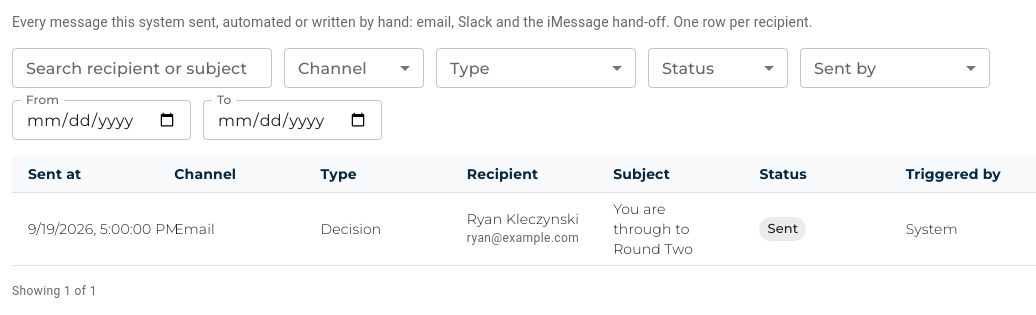
Test: filtering › offers a filter for a status nothing has ever had
expect the text "Ryan Kleczynski" is shown: met, box [467,210,579,228]
Click the 3rd dropdown named "Status" at (718, 68), box [648,48,788,88]
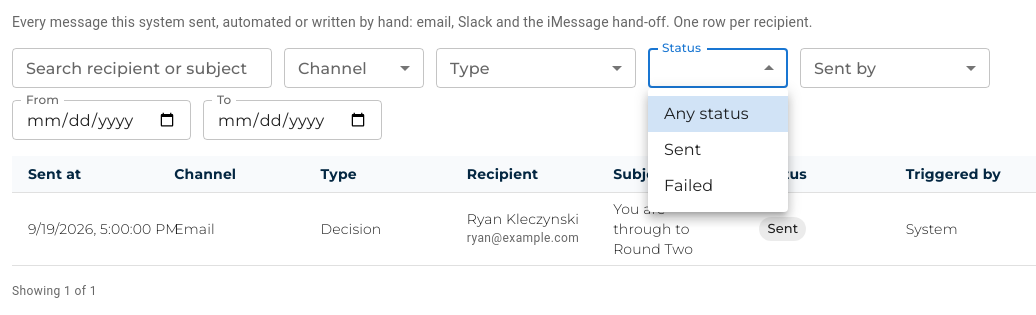
expect the option "Failed" is shown: met, box [664,176,713,195]
